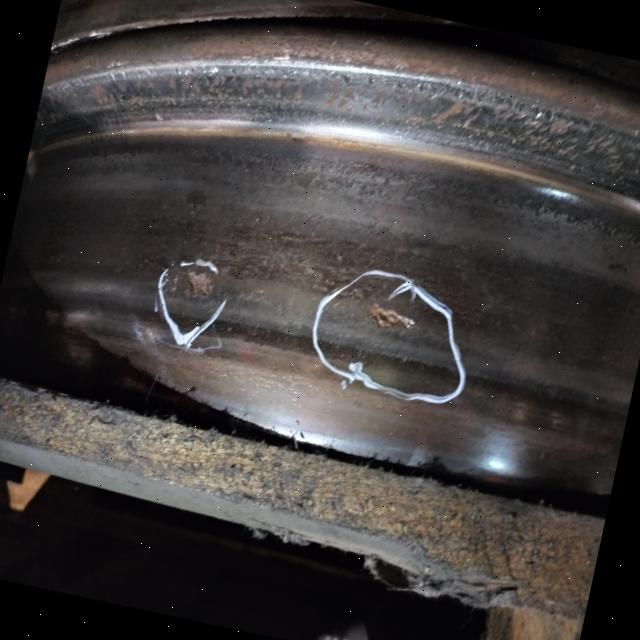Blue hole: (358, 297, 430, 354), (166, 261, 220, 312)
